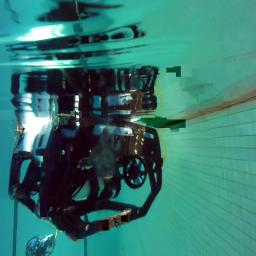Side: (10, 116, 164, 234)
front: (25, 235, 54, 256)
